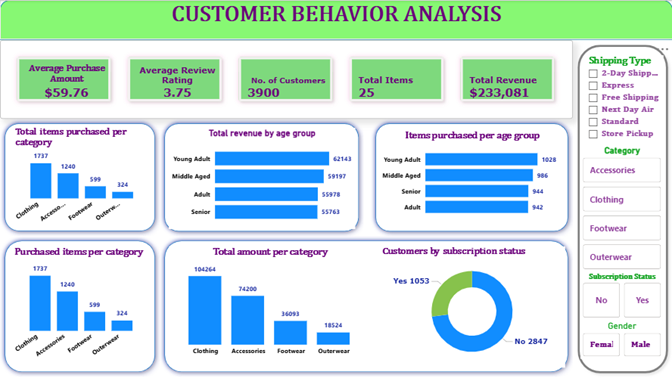

Layout of this report page (visuals, bound fields, positions):
{"tool":"powerbi","page":{"name":"Page 1","canvas":[1280,720],"ordinal":0},"visuals":[{"type":"cardVisual","fields":{"Data":["public customers.Average purchase Amount","public customers.Average Review Rating","public customers.Number of Customers","public customers.Total Items","public customers.Total Revenue"]},"box":[0,76.3,1090.1,149.8],"z":0},{"type":"shape","box":[0,0,1280,76],"z":1000},{"type":"textbox","box":[0,0,1280.2,74.9],"z":2000},{"type":"shape","box":[0,226.1,303.8,223.2],"z":3000},{"type":"shape","box":[705.8,225.6,384.5,223.9],"z":4000},{"type":"shape","box":[304.2,225.6,387.9,223.9],"z":5000},{"type":"shape","box":[0,449.5,304.2,268.3],"z":6000},{"type":"shape","box":[304.2,449.5,786.1,268.3],"z":7000},{"type":"donutChart","title":" Customers by subscription status","fields":{"Category":["public customers.subscription_status"],"Y":["public customers.Number of Customers"]},"box":[721.2,470,353.8,230.7],"z":8000},{"type":"clusteredColumnChart","title":"Total amount per category","fields":{"Category":["public customers.category"],"Y":["Sum(public customers.purchase_amount)"]},"box":[321.3,470,384.5,217],"z":9000},{"type":"shape","box":[1090.1,76.3,190.1,643.7],"z":10000},{"type":"clusteredColumnChart","title":"Total items purchased per category","fields":{"Category":["public customers.category"],"Y":["CountNonNull(public customers.item_purchased)"]},"box":[23,241.9,257.8,193],"z":11000},{"type":"advancedSlicerVisual","title":"Gender","fields":{"Values":["public customers.gender"]},"box":[1104.5,610.6,158.4,73.4],"z":12000},{"type":"advancedSlicerVisual","title":"Category","fields":{"Values":["public customers.category"]},"box":[1104,276.8,158.9,242.7],"z":14000},{"type":"listSlicer","title":"Shipping Type","fields":{"Values":["public customers.shipping_type"]},"box":[1114.6,105.1,148.3,171.4],"z":15000},{"type":"columnChart","title":"Purchased items per category","fields":{"Category":["public customers.category"],"Y":["CountNonNull(public customers.item_purchased)"]},"box":[22.2,470,258.1,230.7],"z":16000},{"type":"clusteredBarChart","title":"Total revenue by age group","fields":{"Category":["public customers.age_group"],"Y":["Sum(public customers.purchase_amount)"]},"box":[321.3,242.7,355.5,193.1],"z":17000},{"type":"clusteredBarChart","title":"Items purchased per age group","fields":{"Category":["public customers.age_group"],"Y":["CountNonNull(public customers.item_purchased)"]},"box":[721.2,247.8,353.8,176],"z":18000},{"type":"advancedSlicerVisual","title":"Subscription Status","fields":{"Values":["public customers.subscription_status"]},"box":[1104.5,519.8,158.4,90.7],"z":18001}]}

Visuals, with their boxes in screenshot pixels (x1, y1, x2, y2), scaled from the page's 1280x720 canvas onto the 672x378 screenshot:
cardVisual - public customers.Average purchase Amount x public customers.Average Review Rating: 0:40:572:119
shape: 0:0:671:40
textbox: 0:0:671:39
shape: 0:119:159:236
shape: 371:118:572:236
shape: 160:118:363:236
shape: 0:236:160:377
shape: 160:236:572:377
" Customers by subscription status" donutChart: 379:247:564:368
"Total amount per category" clusteredColumnChart: 169:247:371:361
shape: 572:40:671:377
"Total items purchased per category" clusteredColumnChart: 12:127:147:228
"Gender" advancedSlicerVisual: 580:321:663:359
"Category" advancedSlicerVisual: 580:145:663:273
"Shipping Type" listSlicer: 585:55:663:145
"Purchased items per category" columnChart: 12:247:147:368
"Total revenue by age group" clusteredBarChart: 169:127:355:229
"Items purchased per age group" clusteredBarChart: 379:130:564:222
"Subscription Status" advancedSlicerVisual: 580:273:663:321
